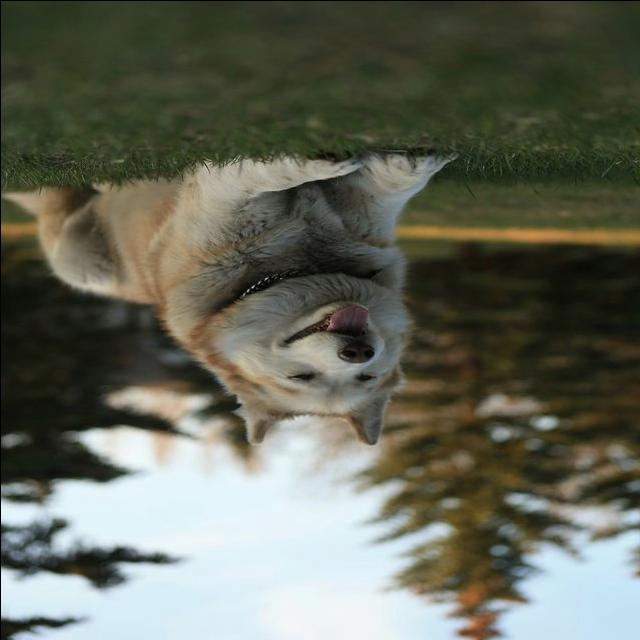husky: (3, 148, 458, 447)
